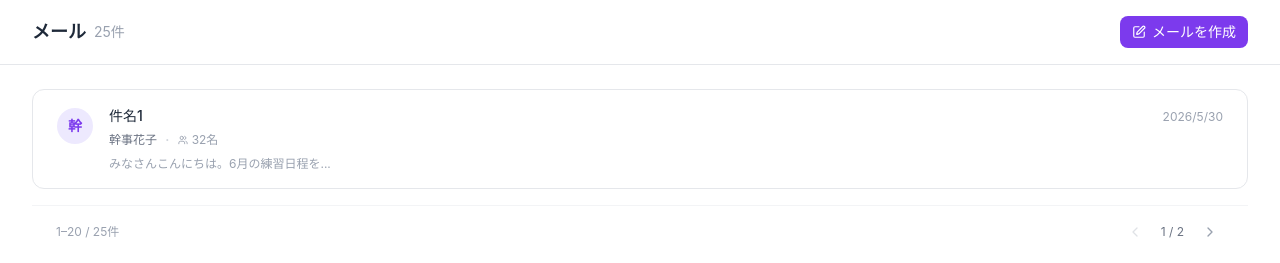
Scenario: MailingPage（一覧表示・件数） › ページネーション: 21件以上ある場合はPaginationを表示しクリックでページが変わる
Expected: the text "件名1" is shown, [109,106,143,126]
Click the button named "次のページ" at (1210,232), box [1196,218,1224,246]
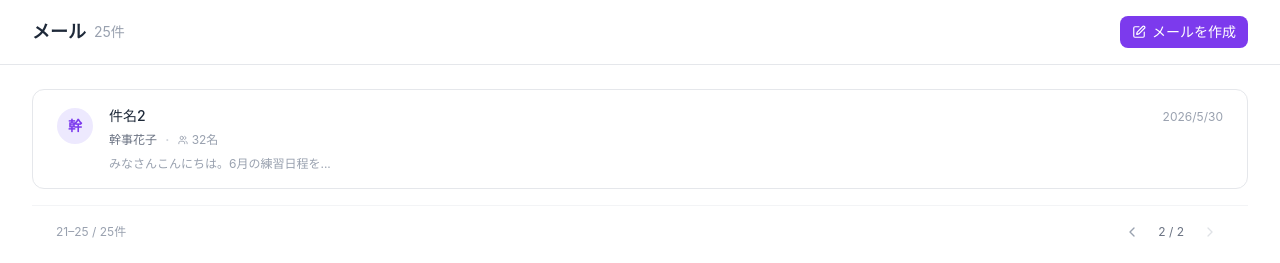
Expected: the text "件名2" is shown, [109,106,146,126]
